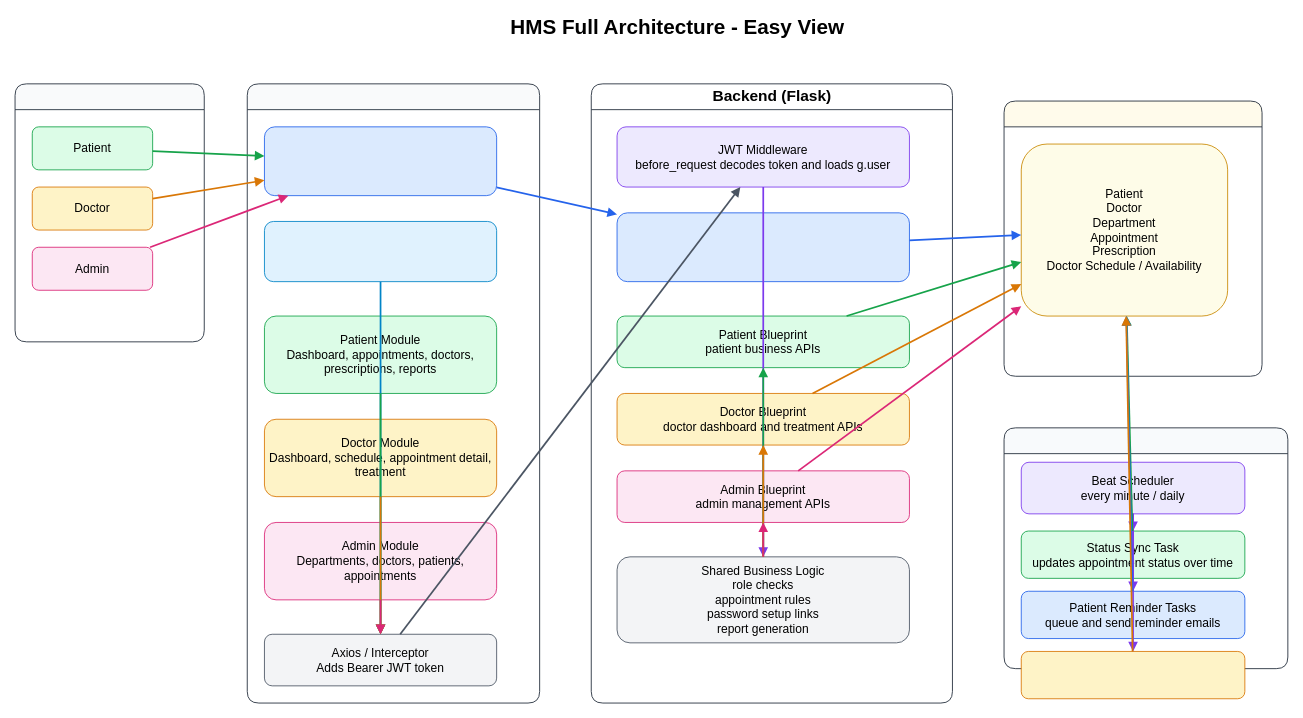
This 1303x718 diagram has some shape labels left out. The box of each missing label's shape, as (x1, y1, x2, y2) in pixels:
Auth Layer login, register, forgot password, reset password, me: (616, 212, 909, 282)
Celery + Beat Workers: (1003, 427, 1288, 669)
Database: (1003, 100, 1262, 376)
Doctor Schedule Task generate PDF and send to doctor: (1020, 651, 1245, 699)
Frontend (Vue App): (246, 83, 540, 703)
Shared Auth Screens Login / Register / Forgot / Reset: (264, 126, 497, 196)
Users: (14, 83, 204, 342)
Vue Router Guard Checks login state and role route: (264, 221, 497, 282)
